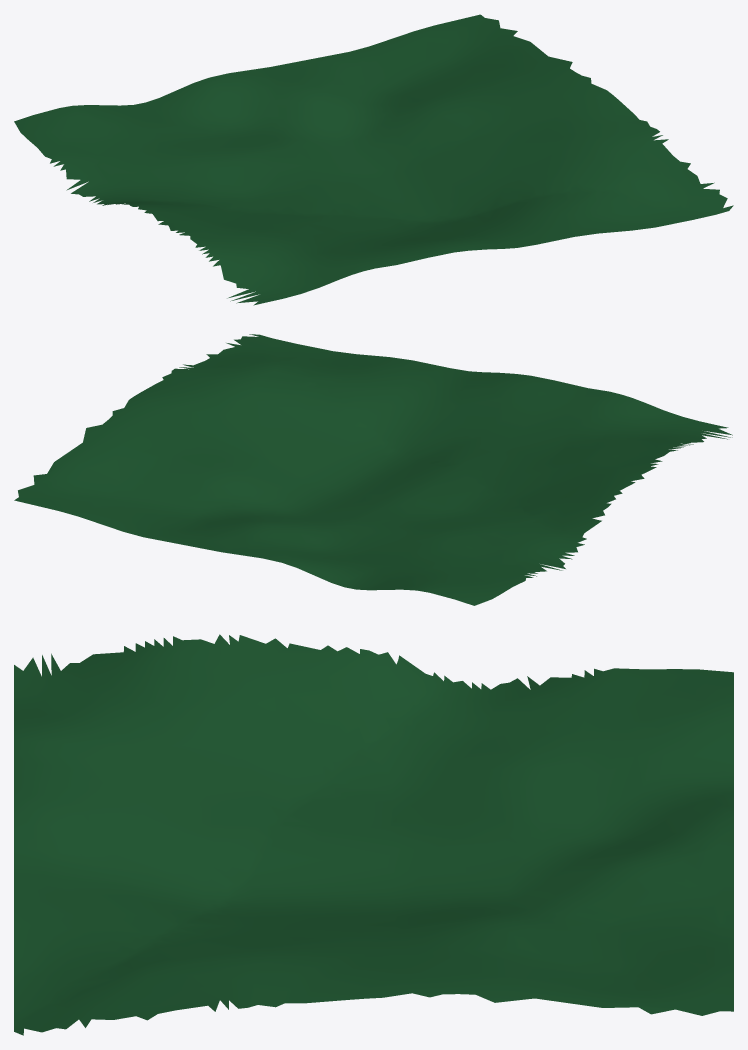
File: payo_land_xm2_ym4_lod1.glb
3 views of the same model, one above another, from view 1: azimuth 30°, elevation 25°; view 2: azimuth 150°, elevation 25°; view 3: azimuth 270°, elevation 25° (orthographic). The views are drawn at different scales.
Visible parts, largest first — view 1: payo_land_xm2_ym4; view 2: payo_land_xm2_ym4; view 3: payo_land_xm2_ym4.
Part boxes in pixels (bbox=[...]): payo_land_xm2_ym4: bbox=[14, 14, 733, 305]; payo_land_xm2_ym4: bbox=[14, 334, 732, 605]; payo_land_xm2_ym4: bbox=[14, 634, 733, 1035].
Size of the model in its own units: 268 by 27.5 by 231.
